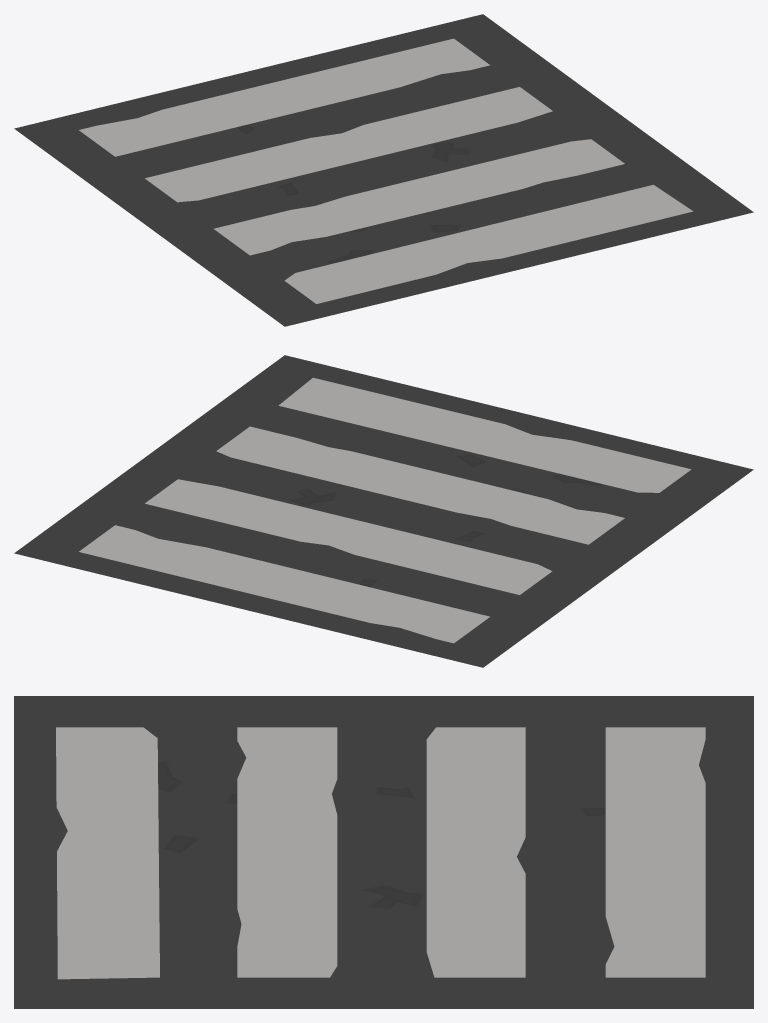
The model's file is SM_Gen_Env_Road_Crossing_01.glb.
3 renders of one model, top to bottom at view 1: azimuth 30°, elevation 25°; view 2: azimuth 150°, elevation 25°; view 3: azimuth 270°, elevation 25°, orthographic. The views are drawn at different scales.
Parts seen in each view (by area): view 1: SM_Gen_Env_Road_Crossing_012; view 2: SM_Gen_Env_Road_Crossing_012; view 3: SM_Gen_Env_Road_Crossing_012.
Part boxes in pixels (bbox=[...]): SM_Gen_Env_Road_Crossing_012: bbox=[14, 14, 753, 326]; SM_Gen_Env_Road_Crossing_012: bbox=[14, 355, 753, 667]; SM_Gen_Env_Road_Crossing_012: bbox=[14, 696, 753, 1008].
Size of the model in its own units: 5 by 4e-08 by 5.
1 material, 1 textured.
